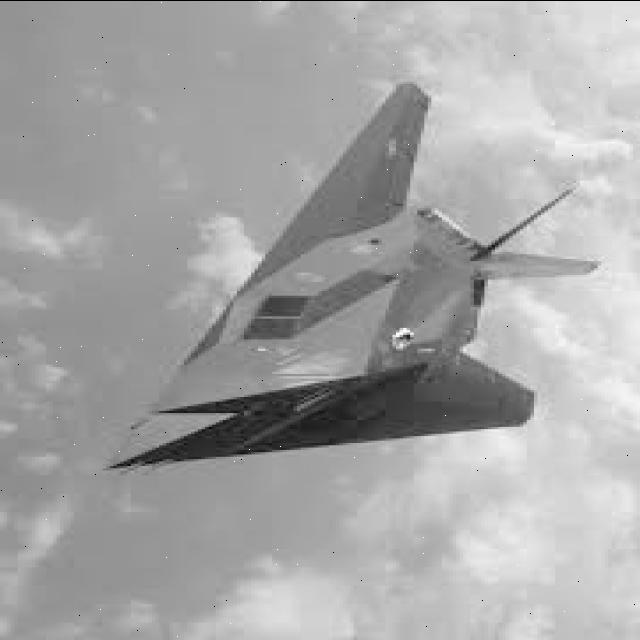F117: (82, 33, 626, 495)
